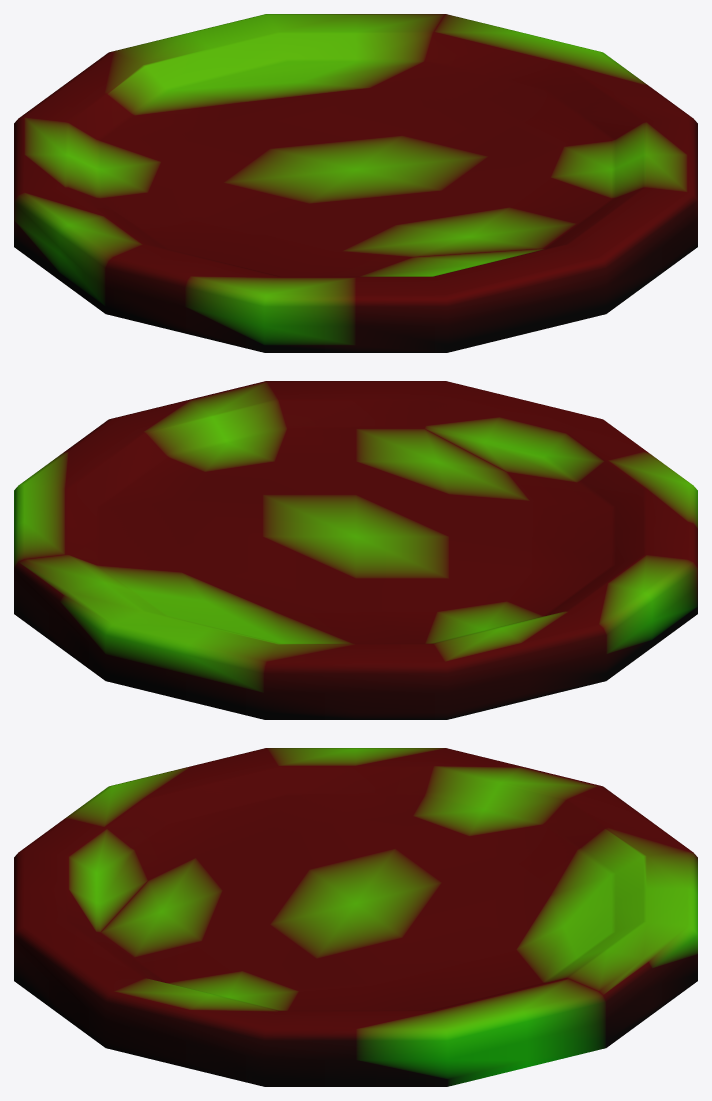
File: castle_graveyard_landing_pad.obj
The picture shows the model from 3 angles, top to bottom: view 1: azimuth 30°, elevation 25°; view 2: azimuth 150°, elevation 25°; view 3: azimuth 270°, elevation 25°; orthographic projection.
Visible parts, largest first — view 1: LandingPad; view 2: LandingPad; view 3: LandingPad.
Part boxes in pixels (<box>): LandingPad: <box>14,14,697,352</box>; LandingPad: <box>14,381,697,719</box>; LandingPad: <box>14,748,697,1086</box>.
Size of the model in its own units: 10.43 by 0.9 by 10.43.
